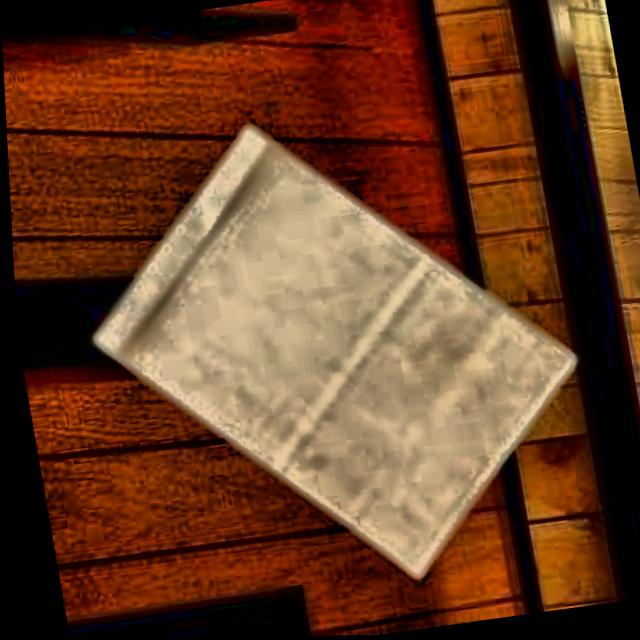Paper-bag: (42, 79, 622, 633)
